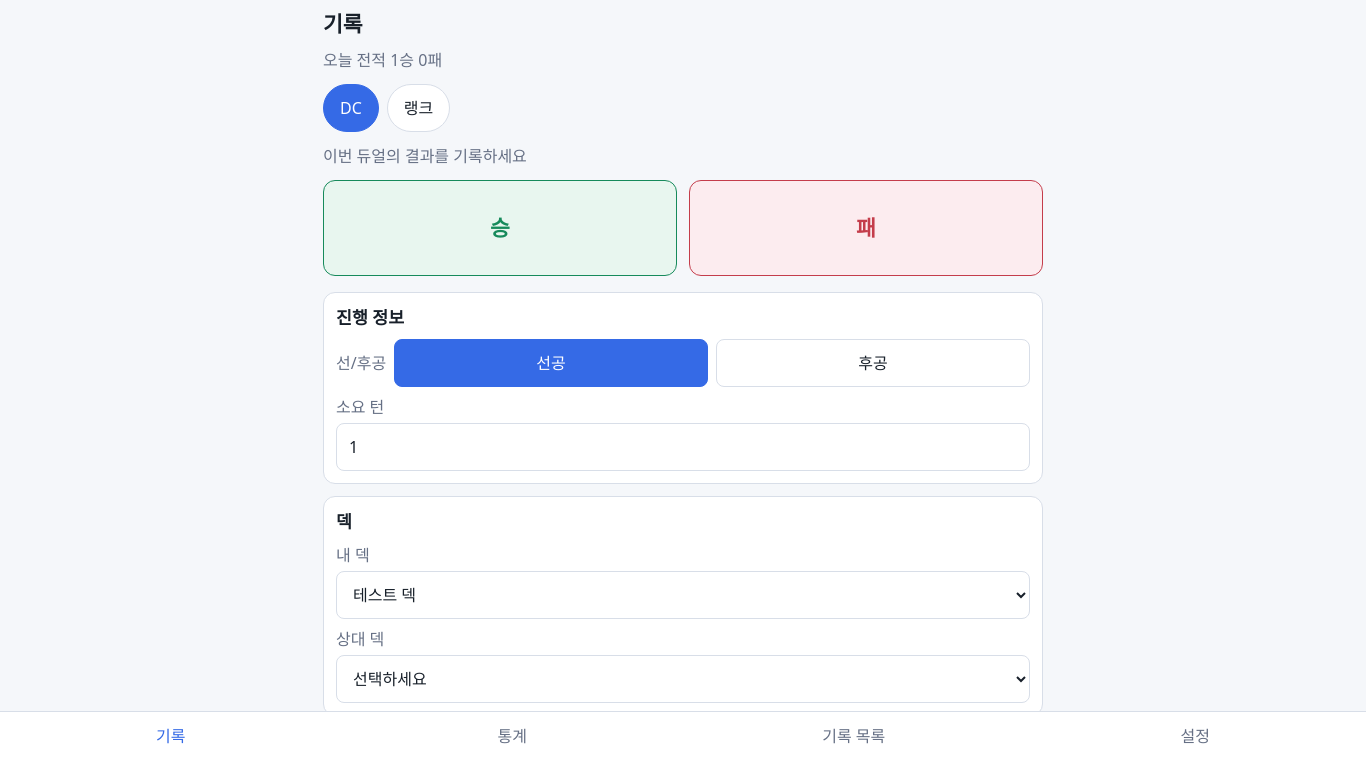
Test: MDL-210-07 성공 영수증 이후 선택적 취향 저장 › 취향 읽기 실패는 정상 기록 조회와 생성을 막지 않는다
This screenshot has width=1366, height=760.
Click the button "승".
click(500, 228)  # box x1=323 y1=180 x2=677 y2=276
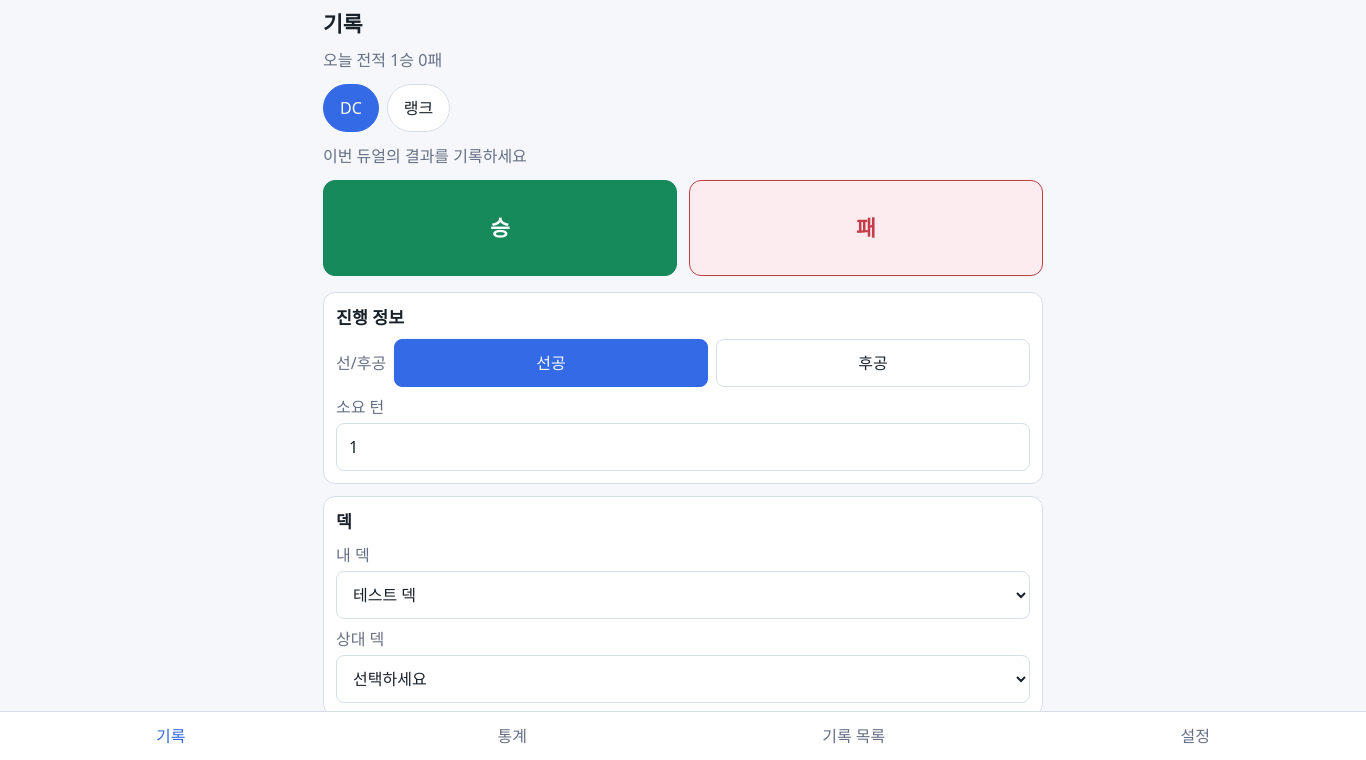
Select "상대 덱" in the dropdown labelled "상대 덱" at coordinates (683, 679), box x1=336 y1=655 x2=1030 y2=703
(page scrolled)
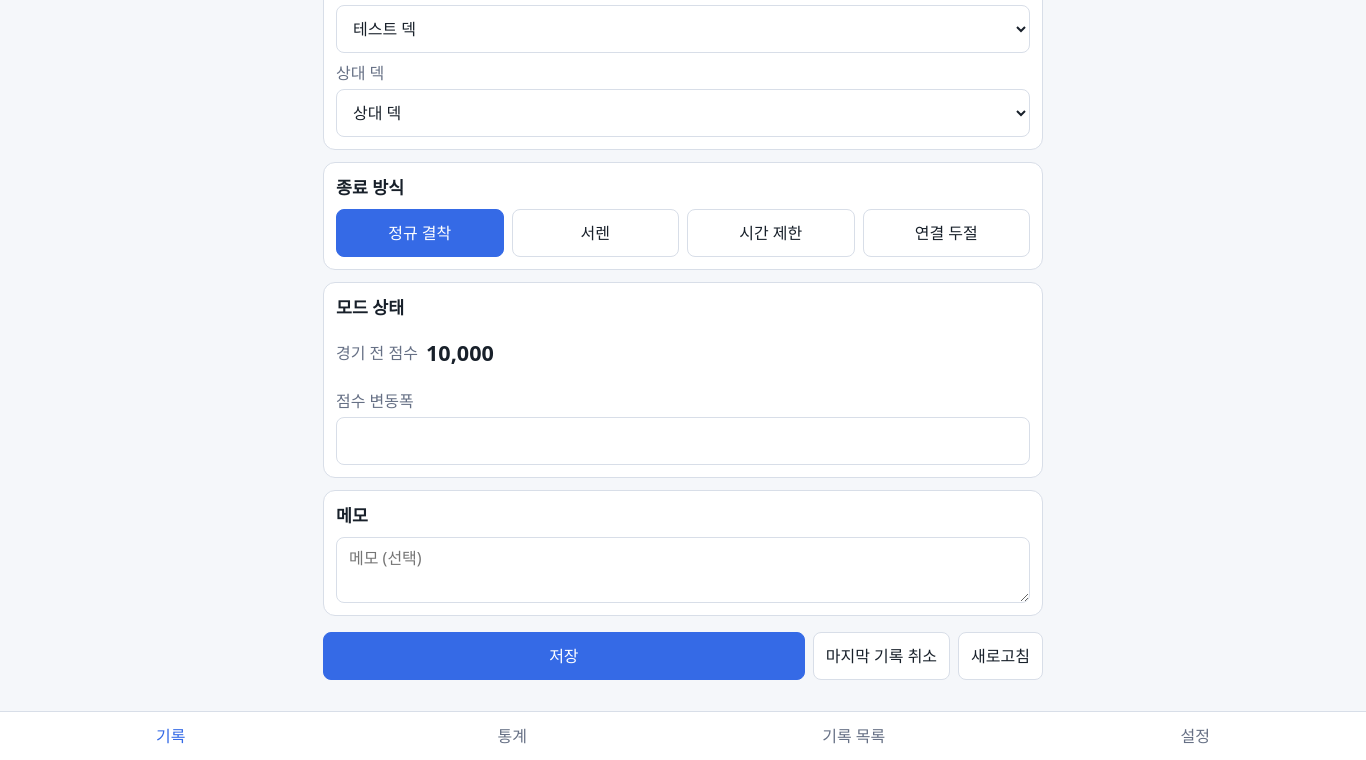
Type "100" into the number field labelled "점수 변동폭".
click(683, 441); type("100")  # box x1=336 y1=417 x2=1030 y2=465
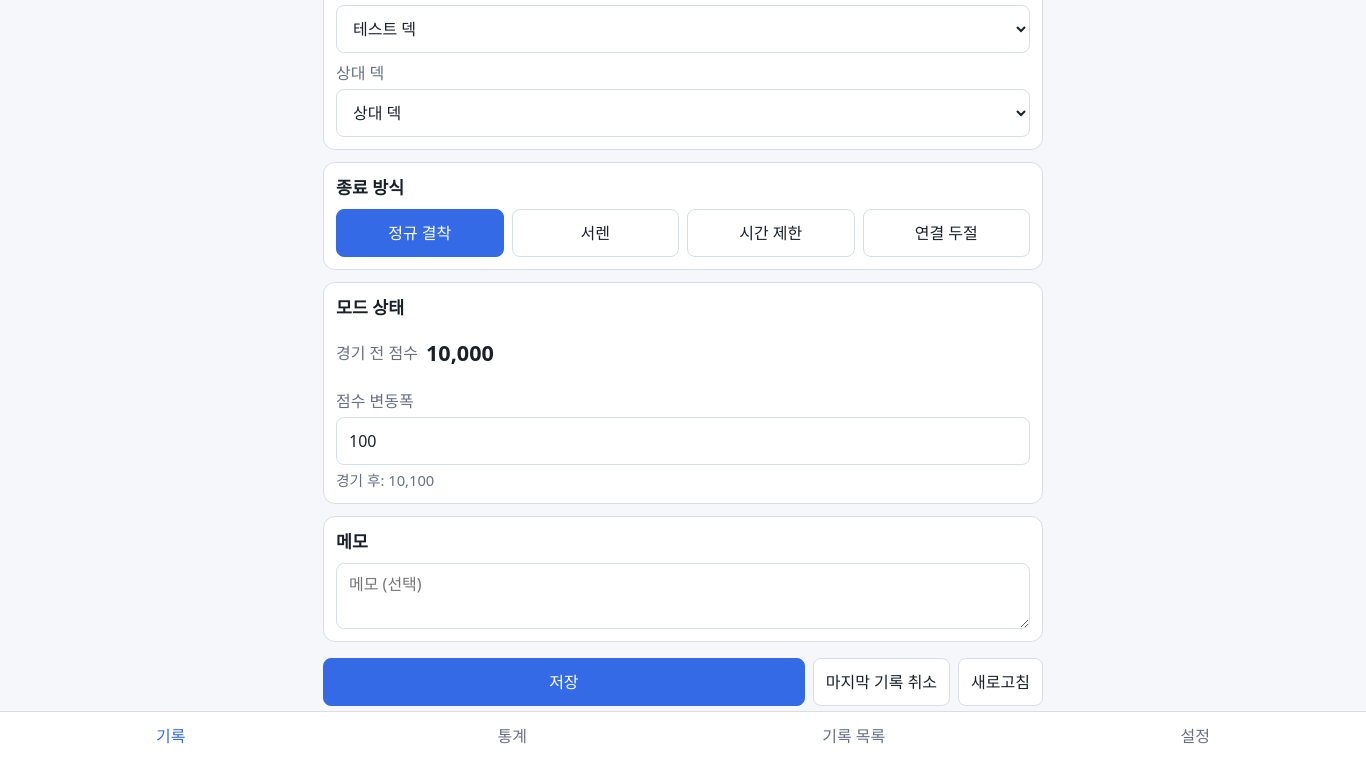
Click the button "저장".
click(564, 682)  # box x1=323 y1=658 x2=805 y2=706
(page scrolled)
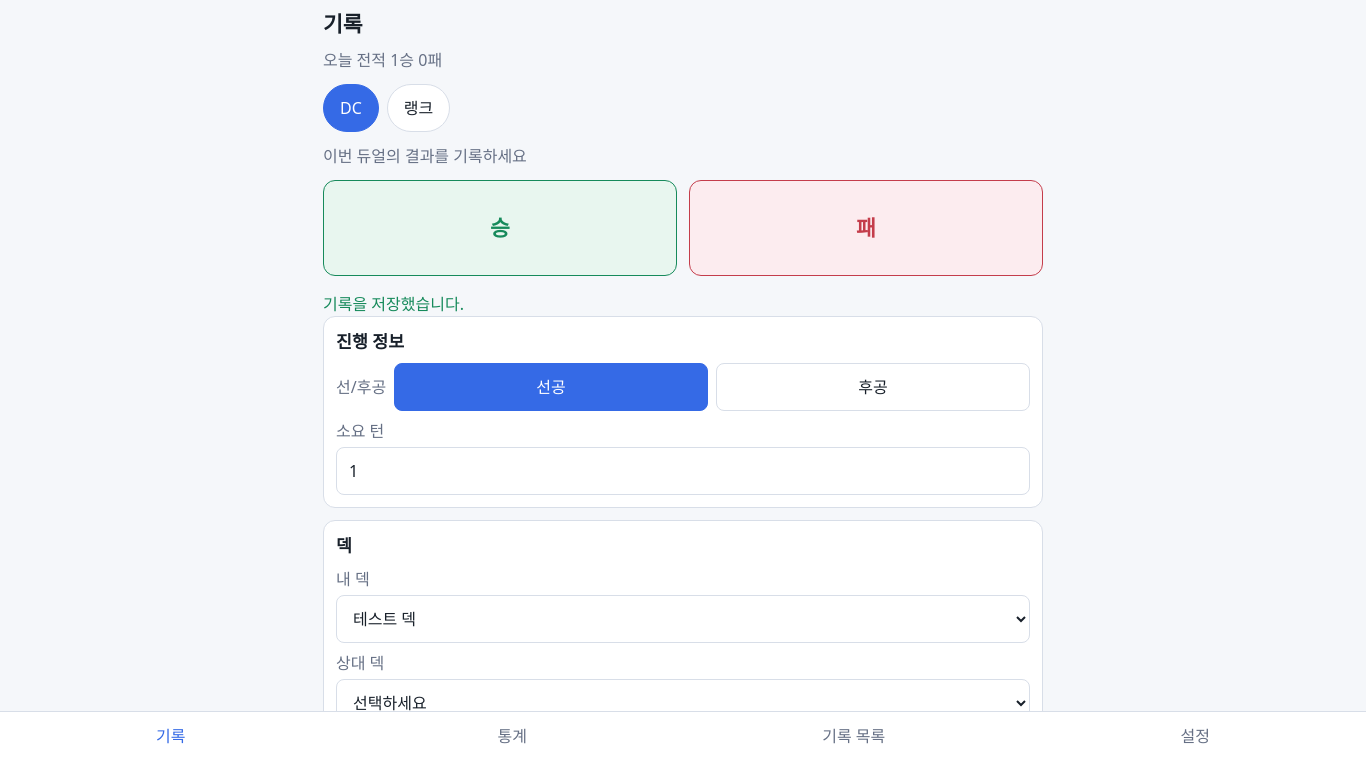
Result: the text "기록을 저장했습니다." is shown at x1=323 y1=293 x2=464 y2=315
